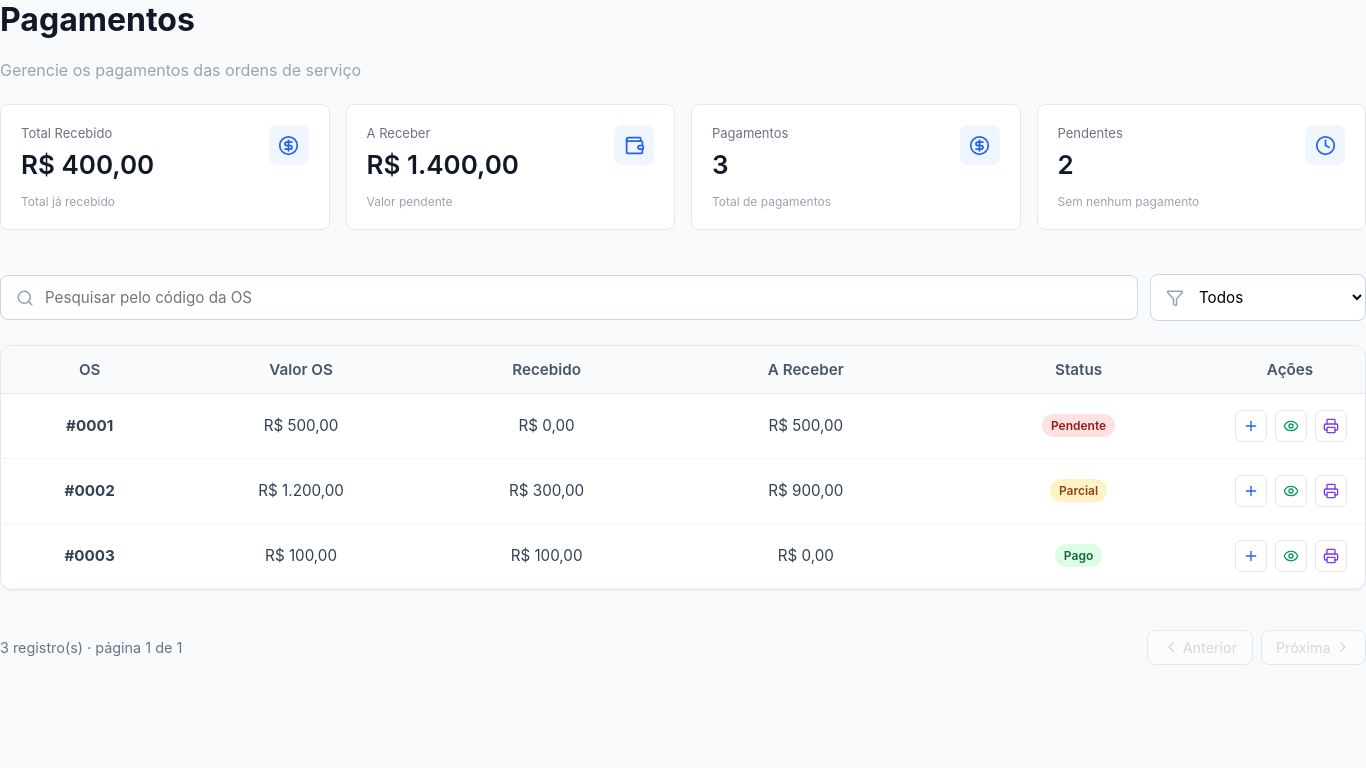
Test: Página de Pagamentos › registrar pagamento › não aceita valor acima do saldo restante da OS
Expected: the text "#0002" is shown, [65, 481, 115, 500]
Click the button titled "Registrar Pagamento" in the row of "0002": (1251, 491) [1235, 475, 1267, 507]
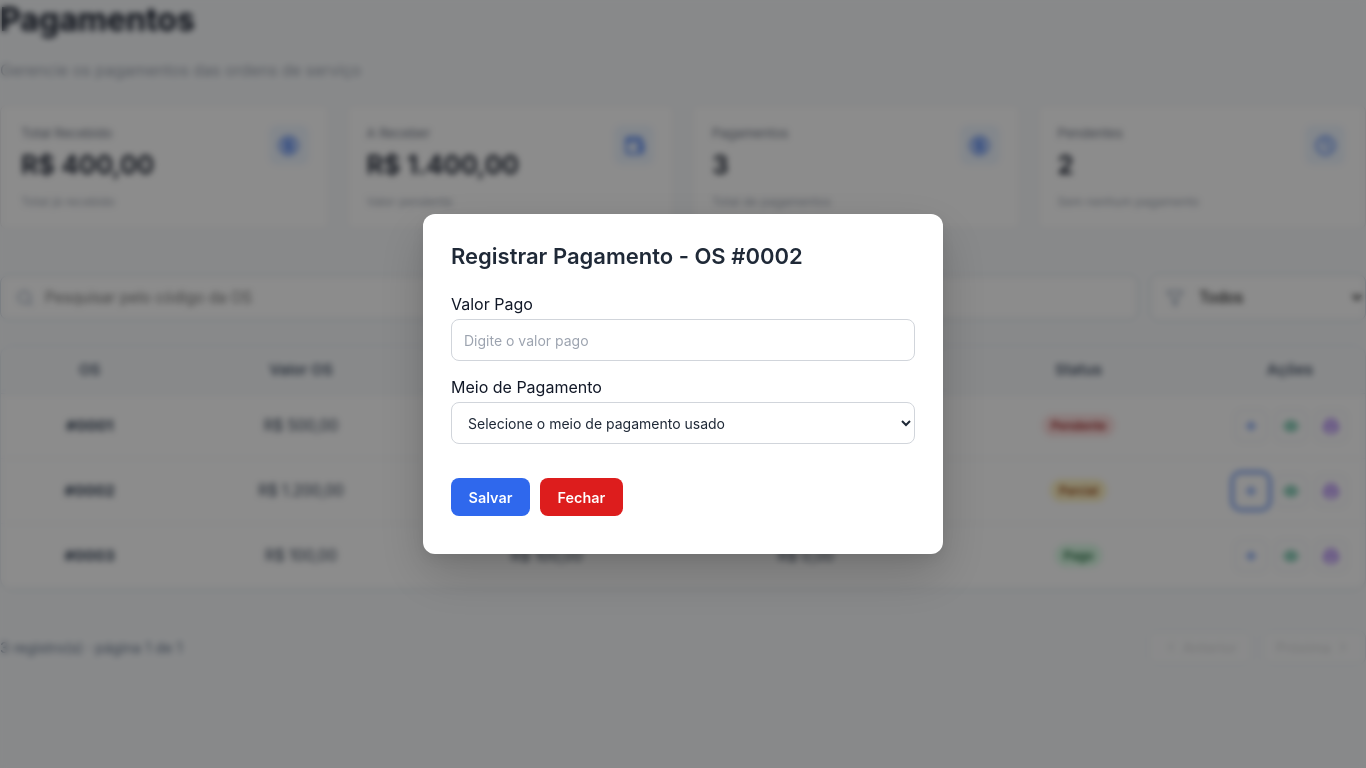
In the field with placeholder "Digite o valor pago": (683, 340) [451, 319, 915, 361], type "90001"
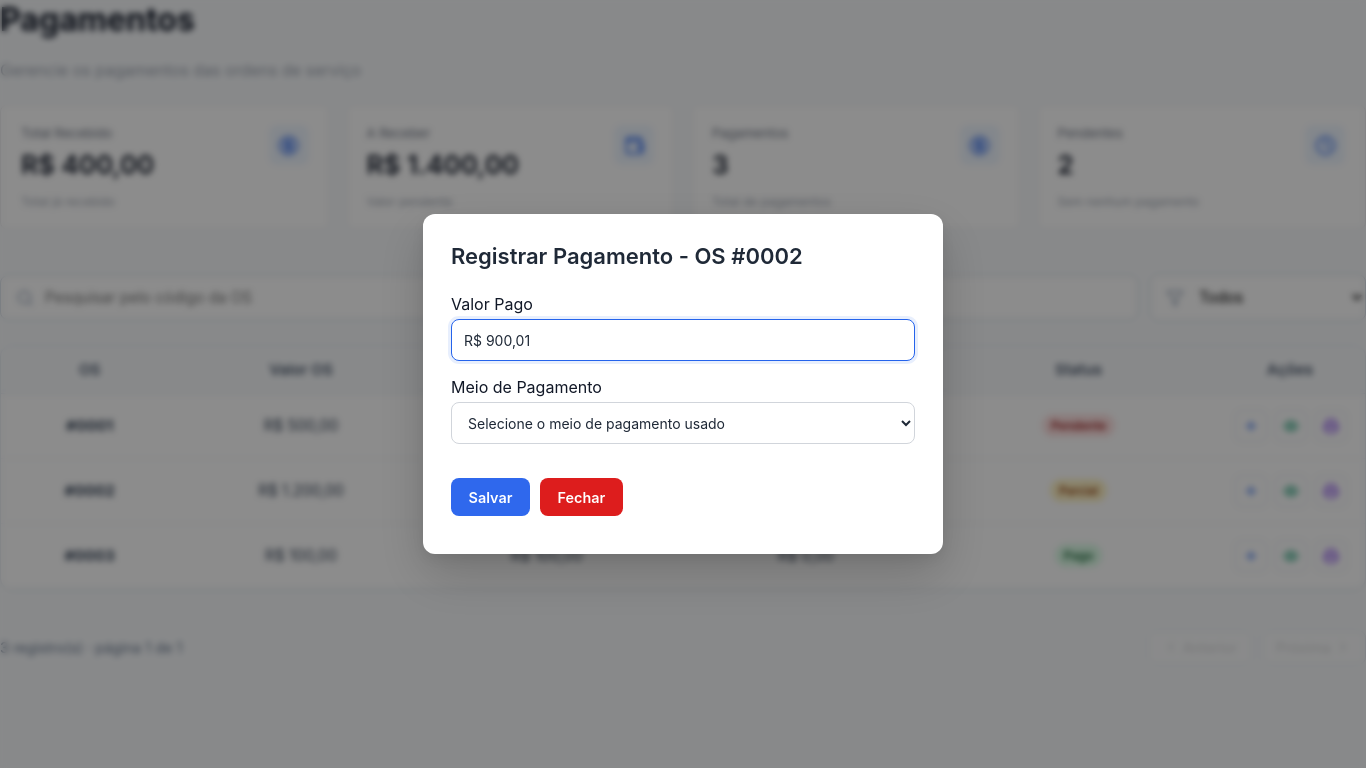
Select "PIX" in the dropdown: (683, 423) [451, 402, 915, 444]
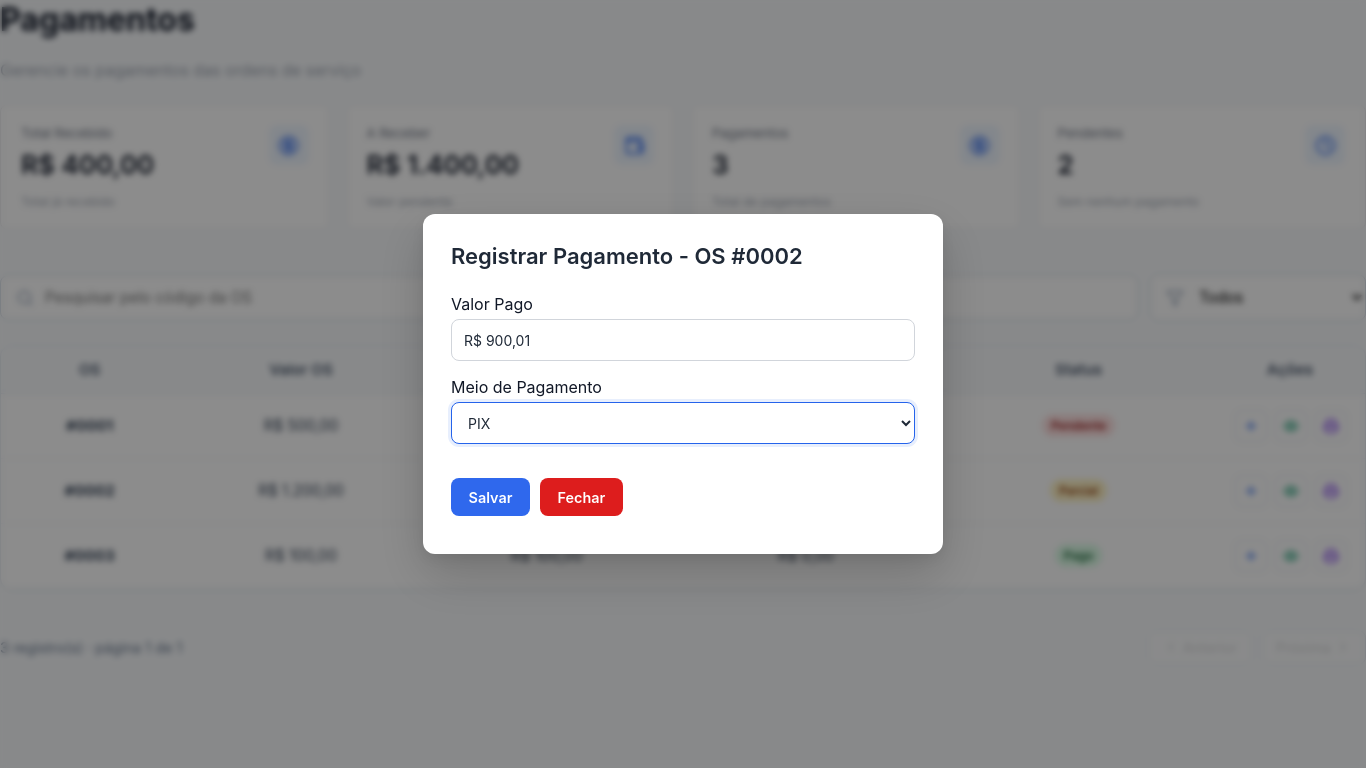
Click the button "Salvar": (490, 497) [451, 478, 530, 516]
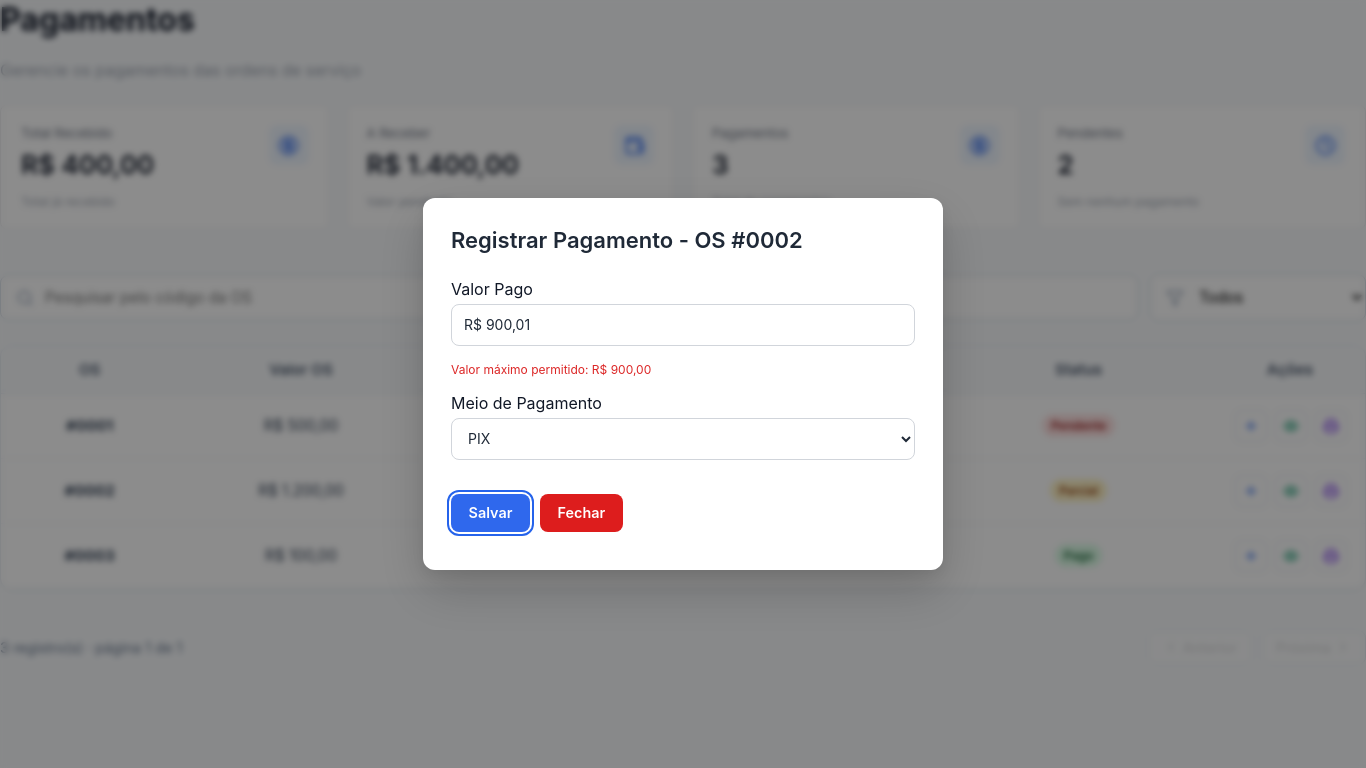
Result: the text "Valor máximo permitido: R$ 900,00" is shown at [451, 362, 651, 377]
